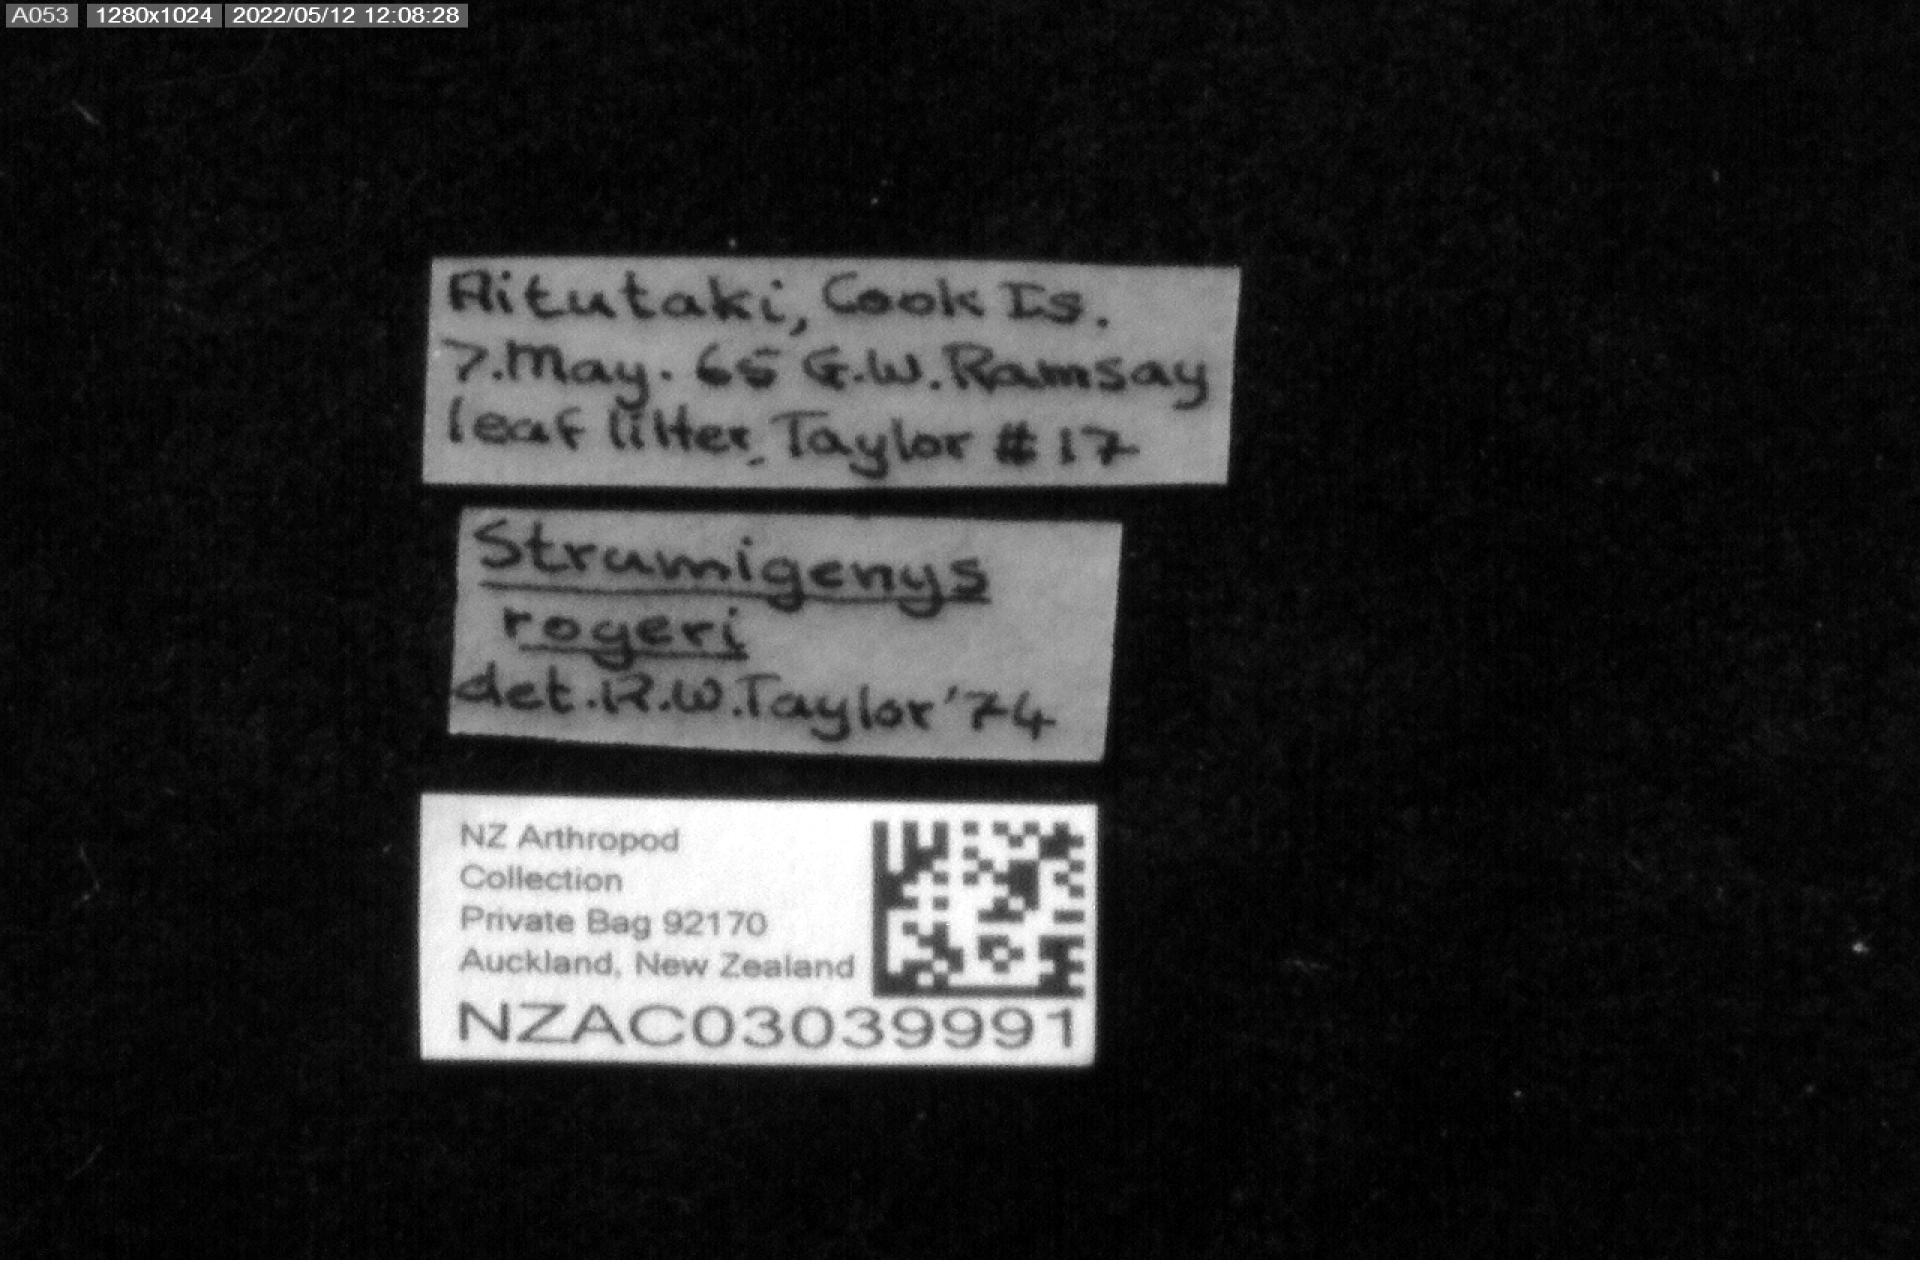hand_label: (424, 256, 1241, 490), (450, 506, 1121, 763)
typed_label: (420, 794, 1099, 1066)
